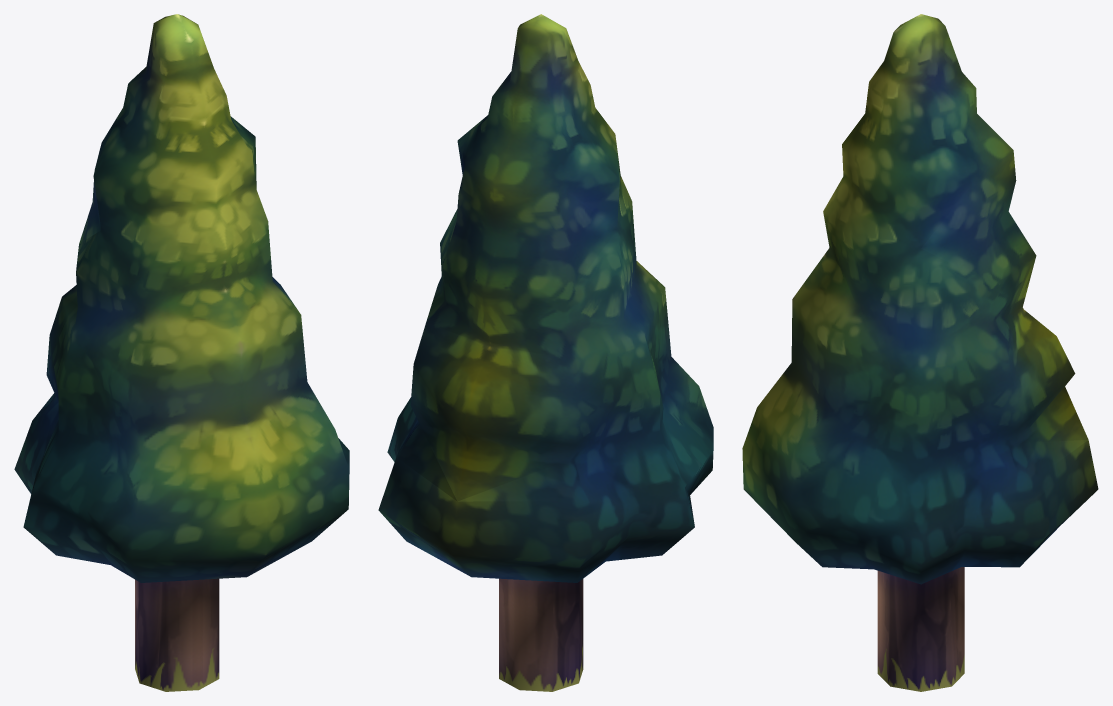
Rendered from scenes_village_trees01.FBX.
3 views of the same model, side by side, from view 1: azimuth 30°, elevation 25°; view 2: azimuth 150°, elevation 25°; view 3: azimuth 270°, elevation 25° (orthographic).
Visible parts, largest first — view 1: scenes_village_trees01; view 2: scenes_village_trees01; view 3: scenes_village_trees01.
Part boxes in pixels (x1,y1,x2,y2): scenes_village_trees01: (14, 14, 349, 691); scenes_village_trees01: (378, 14, 713, 691); scenes_village_trees01: (742, 14, 1098, 691).
Bounding box in the file's own units: 151 × 309 × 151.
